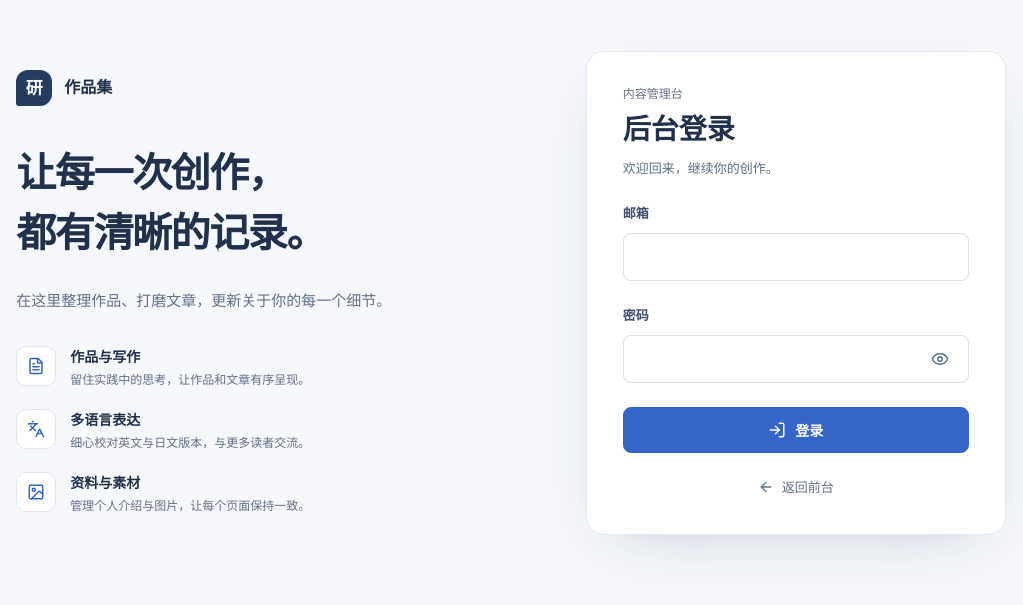
Test: LoginPage › renders login failure
Type "admin@example.com" into the field labelled "邮箱" at [796, 257], box [623,233,969,281]
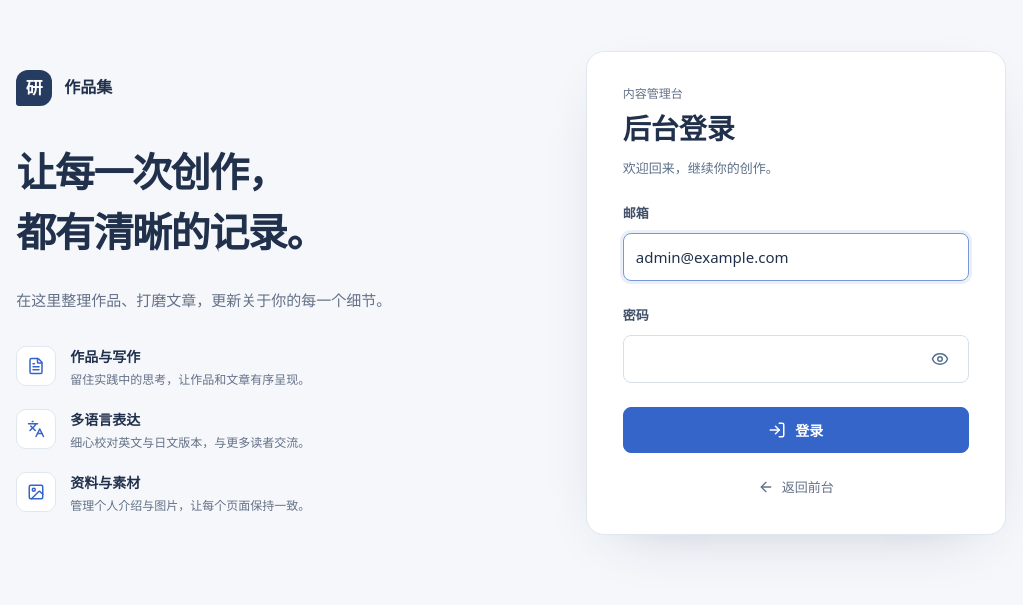
Type "bad-password" into the password field labelled "密码" at [796, 359], box [623,335,969,383]
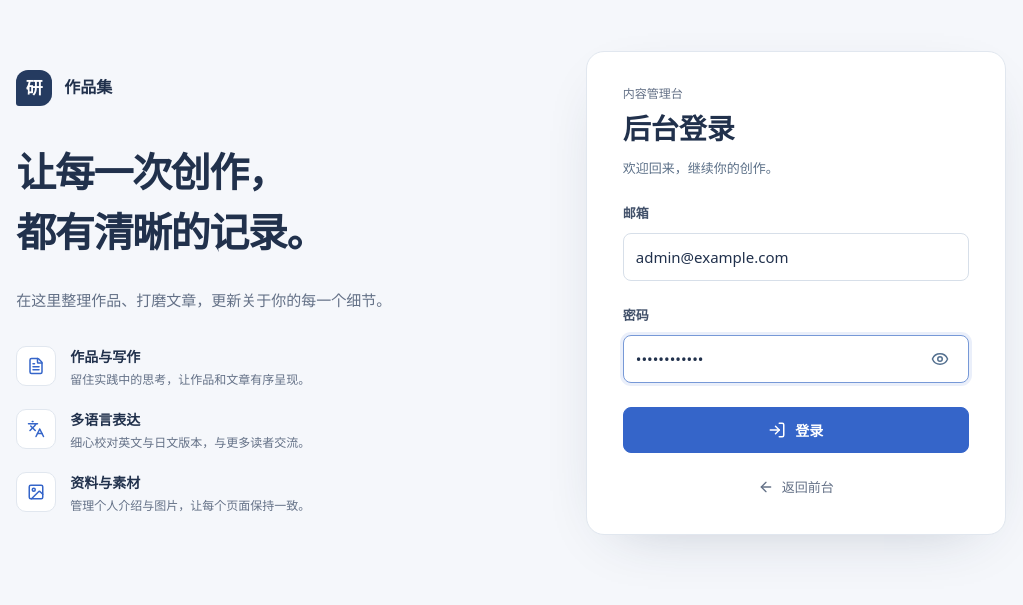
Click the button "登录" at [796, 430], box [623,407,969,453]
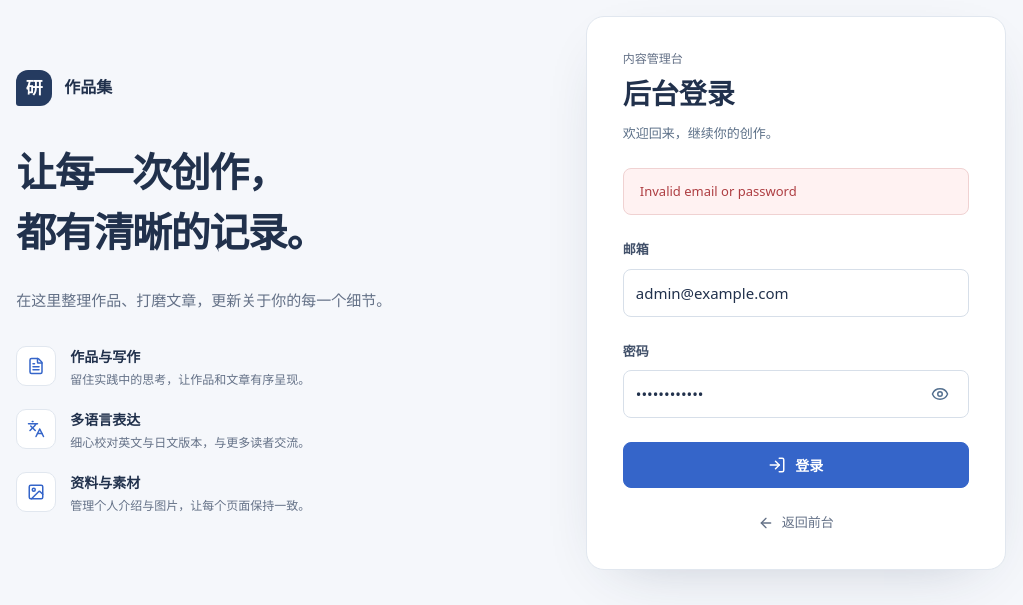
Result: the text "Invalid email or password" is shown at [623,168,969,215]
